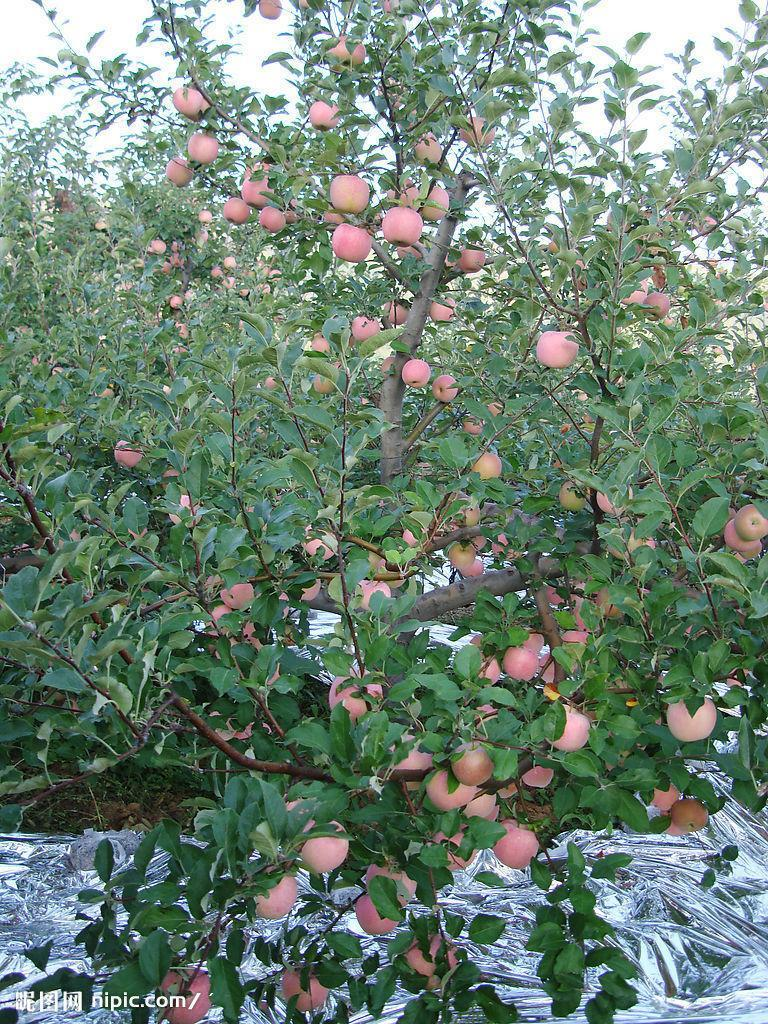apple: (383, 292, 455, 330), (665, 697, 718, 741), (330, 676, 381, 720), (164, 971, 209, 1019), (284, 961, 329, 1009), (492, 826, 538, 868), (254, 875, 297, 919), (727, 504, 766, 550), (455, 745, 498, 785), (356, 894, 399, 934), (301, 835, 347, 872), (429, 771, 472, 810), (546, 710, 589, 749), (243, 162, 279, 207), (329, 174, 369, 214), (330, 223, 371, 262), (381, 206, 422, 245), (535, 331, 577, 368), (500, 644, 540, 680), (330, 36, 368, 72), (448, 540, 483, 578), (186, 133, 220, 167), (307, 99, 341, 133), (173, 84, 207, 118), (474, 451, 503, 481), (221, 582, 253, 609), (400, 358, 429, 387), (350, 315, 381, 340)
